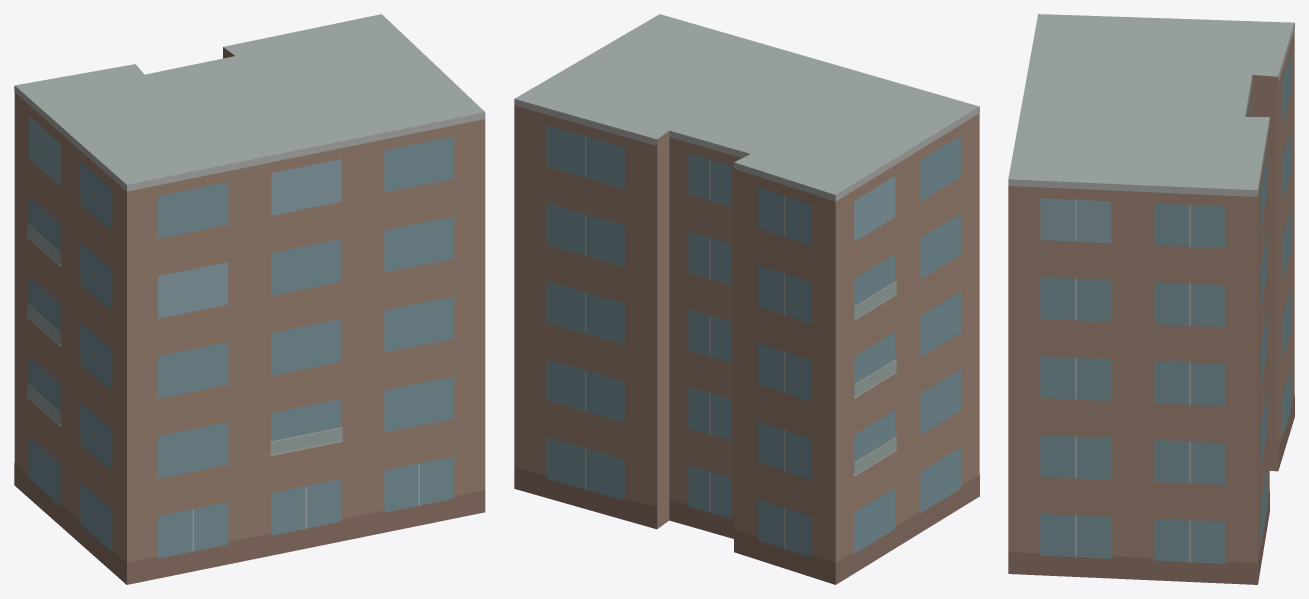
File: survey-upis-32984839.glb
3 renders of one model, left to right at view 1: azimuth 30°, elevation 25°; view 2: azimuth 150°, elevation 25°; view 3: azimuth 270°, elevation 25°, orthographic. The views are drawn at different scales.
Parts seen in each view (by area): view 1: survey-upis-32984839.tmp; view 2: survey-upis-32984839.tmp; view 3: survey-upis-32984839.tmp.
Boxes of the visible parts, x1,y1,x2,y2 form: survey-upis-32984839.tmp: [14, 14, 485, 584]; survey-upis-32984839.tmp: [514, 14, 979, 584]; survey-upis-32984839.tmp: [1008, 14, 1294, 584].
Size of the model in its own units: 13.86 by 14.45 by 9.52.
